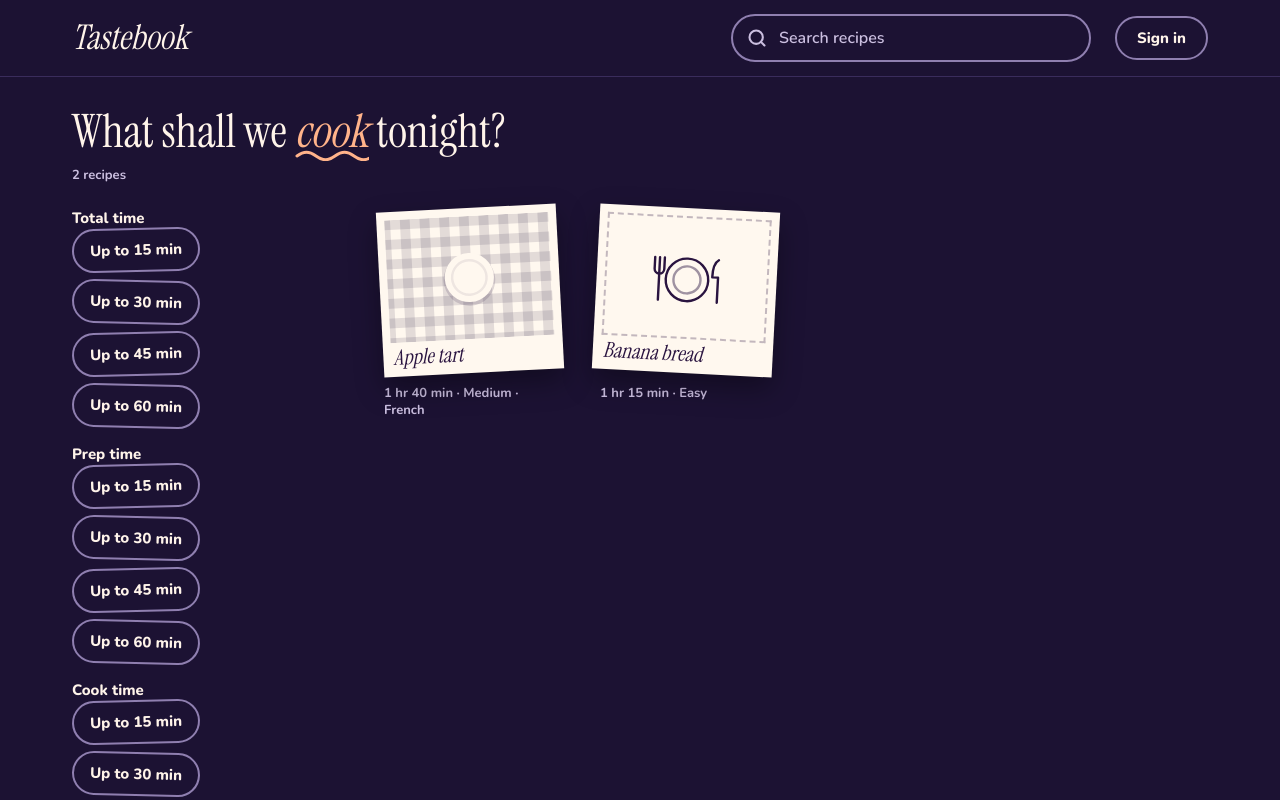
Test: RecipesPage › searches once typing pauses
Expected: the heading "Banana bread" is shown, x1=602 y1=336 x2=703 y2=369
Step 1. Type "tart" into the search field labelled "Search recipes" → point(911, 38), box x1=731 y1=14 x2=1091 y2=62
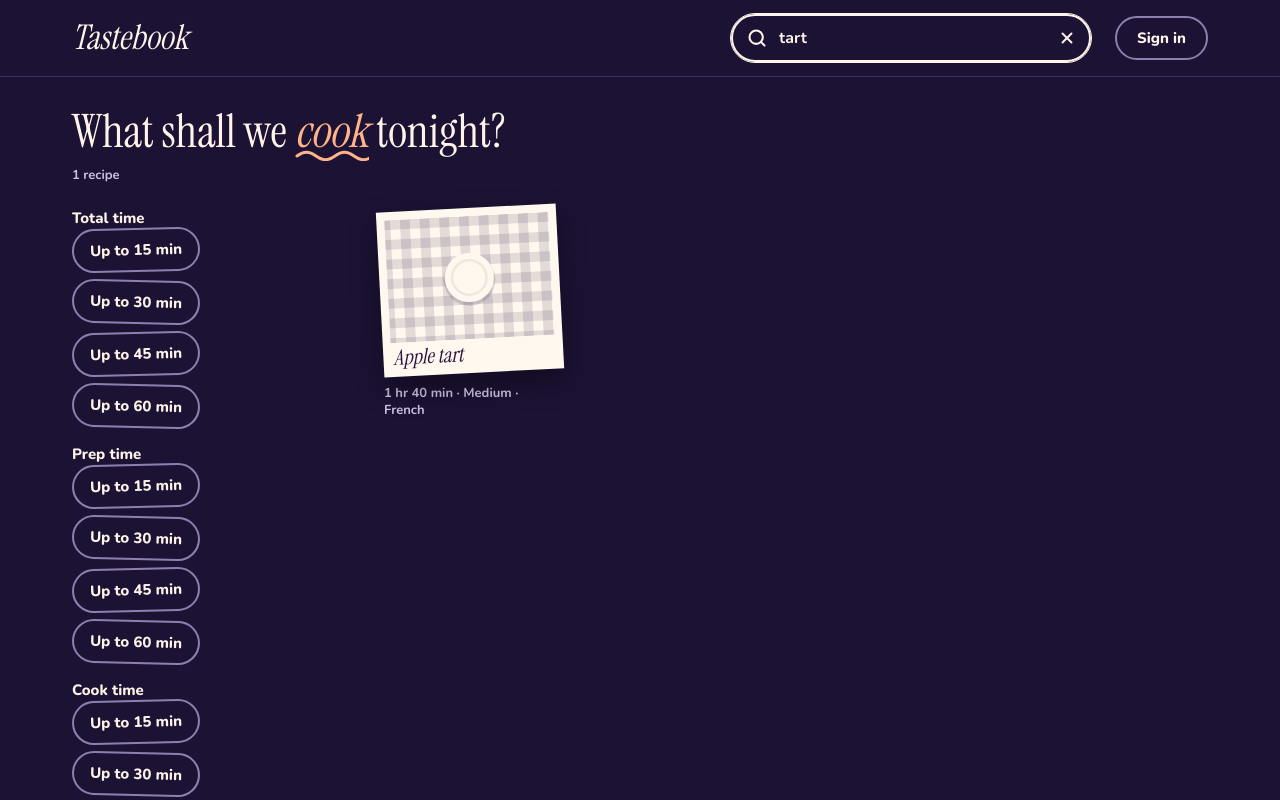
Expected: the text "1 recipe" is shown, x1=72 y1=166 x2=120 y2=184
